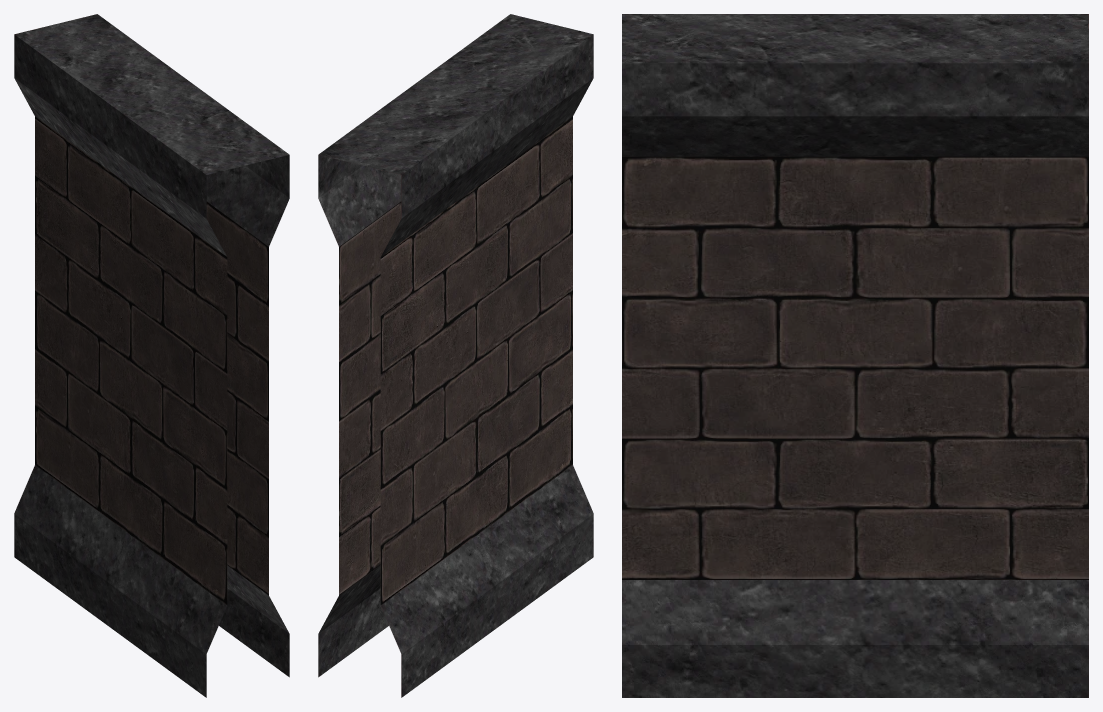
File: Bk_Wall.glb
3 renders of one model, left to right at view 1: azimuth 30°, elevation 25°; view 2: azimuth 150°, elevation 25°; view 3: azimuth 270°, elevation 25°, orthographic. The views are drawn at different scales.
Visible parts, largest first — view 1: Bk_Wall; view 2: Bk_Wall; view 3: Bk_Wall.
Part boxes in pixels (x1,y1,x2,y2): Bk_Wall: (14,14,289,697); Bk_Wall: (318,14,593,697); Bk_Wall: (622,14,1088,697).
Size of the model in its own units: 0.5 by 3 by 2.
Materials: 1 (1 with a texture image).
